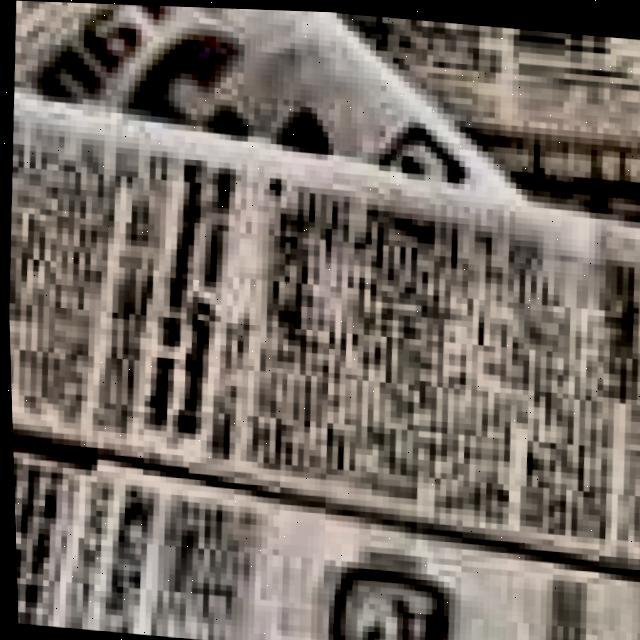paper: (0, 0, 640, 640), (7, 101, 640, 640)
